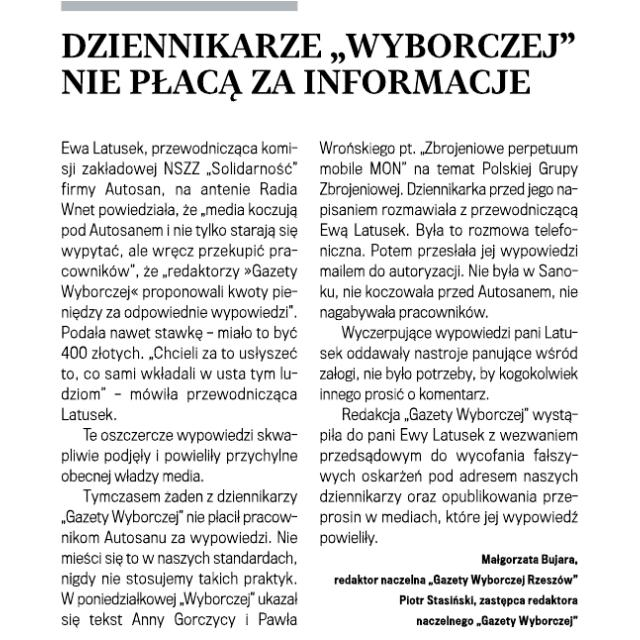author: (332, 551, 582, 633)
body: (53, 132, 305, 632), (318, 131, 584, 549)
title: (57, 22, 583, 106)
